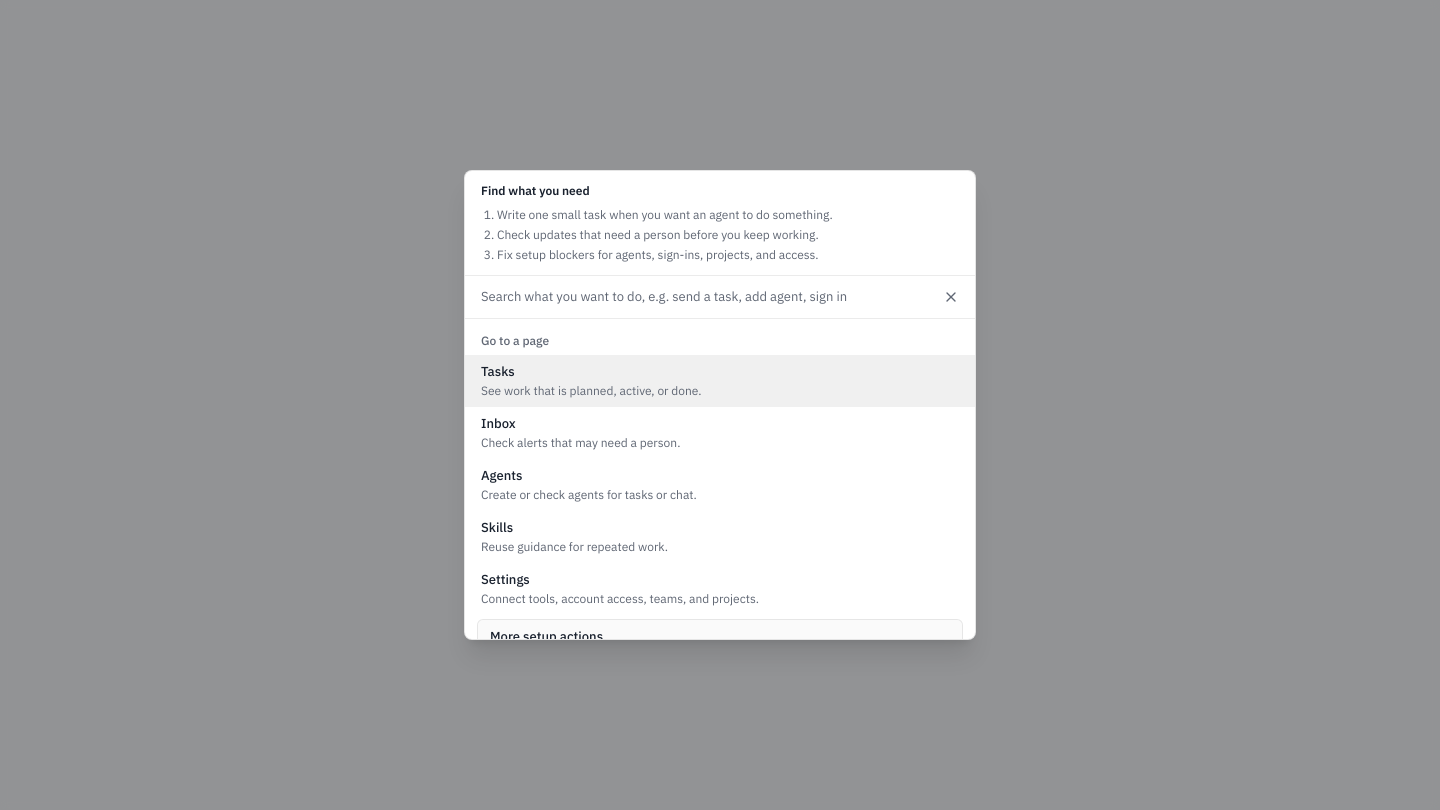
Test: CommandPalette › finds setup checklist recovery when Start is hidden
Replace the text in the dropdown with placeholder "Search what you want to do" with "start tutorial" at (700, 297), box [465,276,935,318]
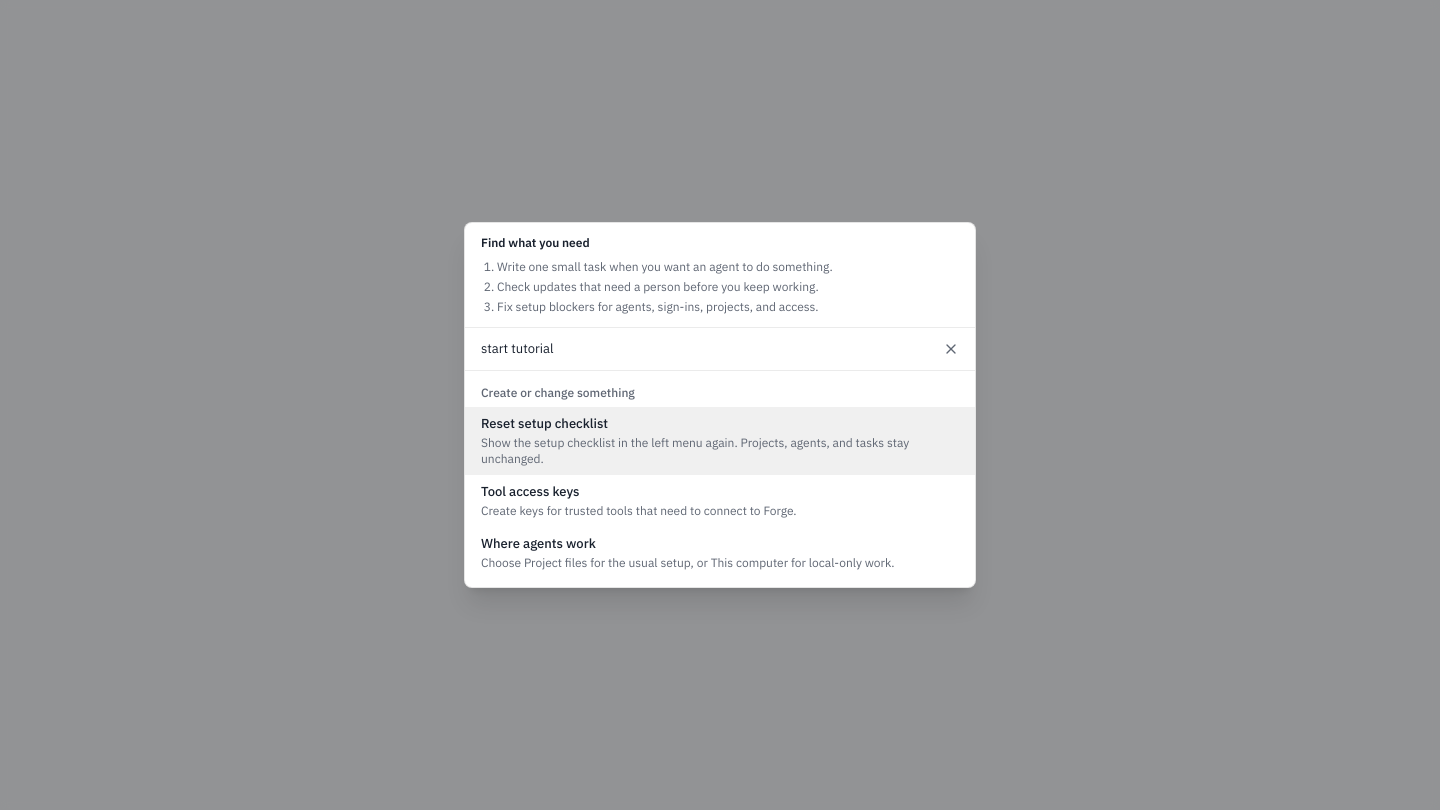
Check: the text "Reset setup checklist" is shown, box [481,415,608,432]
Check: the text "Show the setup checklist in the left menu again. Projects, agents, and tasks stay unchanged." is shown, box [481,435,909,466]
